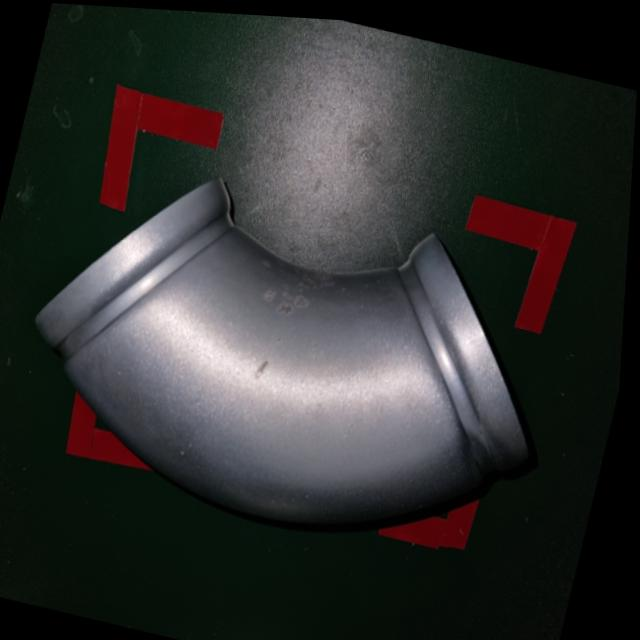Defect: (0, 130, 585, 579)
Hole: (235, 236, 358, 394)
